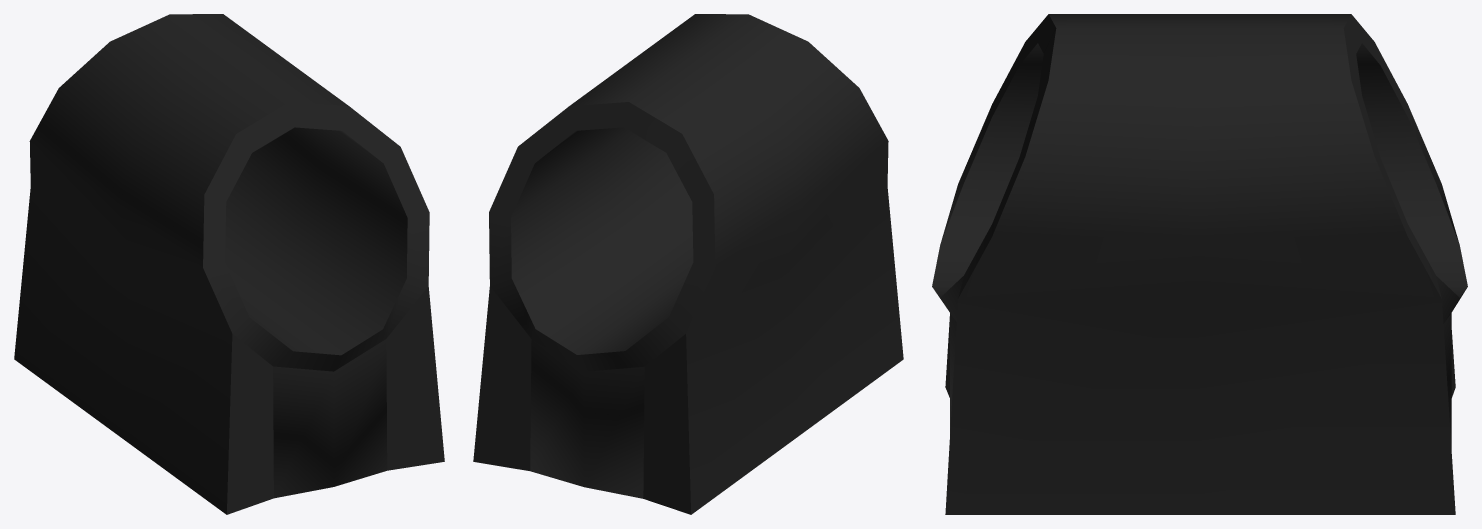
File: scope_2.fbx
3 views of the same model, side by side, from view 1: azimuth 30°, elevation 25°; view 2: azimuth 150°, elevation 25°; view 3: azimuth 270°, elevation 25° (orthographic). The views are drawn at different scales.
Visible parts, largest first — view 1: scope_2; view 2: scope_2; view 3: scope_2.
Boxes of the visible parts, x1=… form: scope_2: x1=14, y1=14, x2=444, y2=514; scope_2: x1=473, y1=14, x2=903, y2=514; scope_2: x1=932, y1=14, x2=1467, y2=514.
Size of the model in its own units: 181 by 270 by 310.
